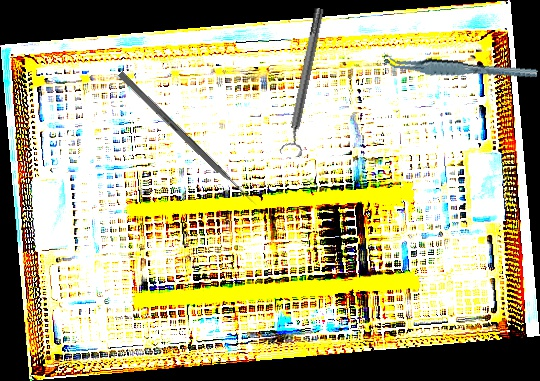Fixation Ring: (277, 6, 333, 158)
Pusher: (117, 70, 259, 209)
Tissue Forceps: (381, 39, 539, 96)
